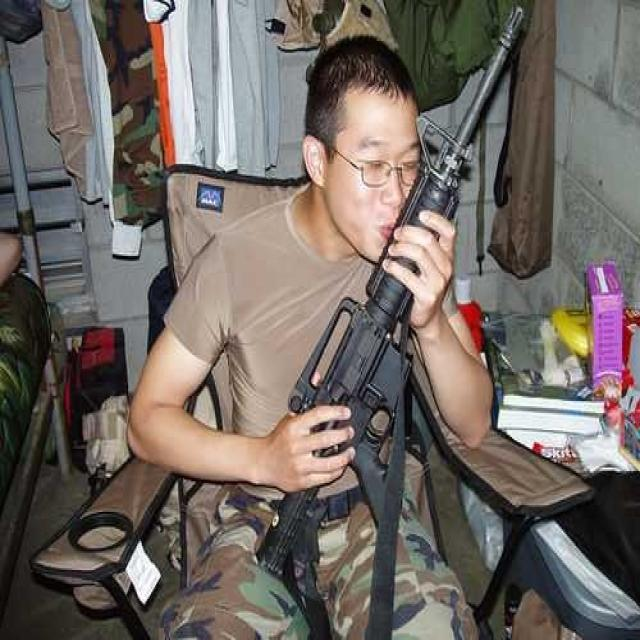Rifle: (247, 2, 541, 620)
